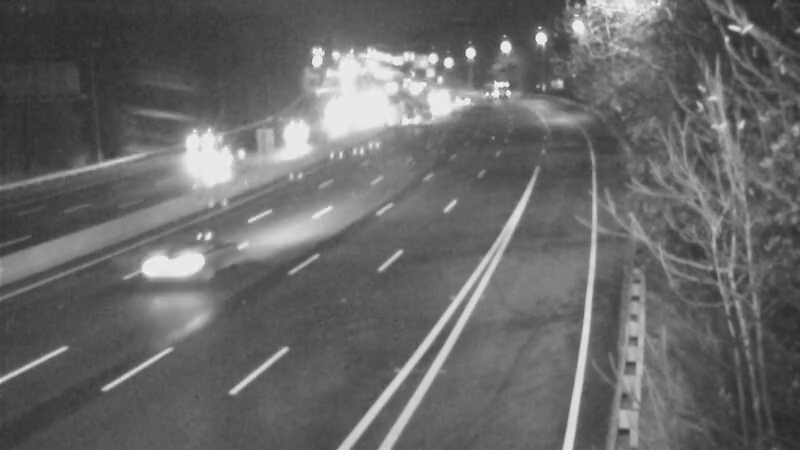vehicle: (133, 226, 213, 306), (186, 120, 266, 200), (467, 63, 517, 113), (409, 72, 459, 122), (433, 75, 483, 125), (410, 81, 460, 131), (380, 94, 430, 144), (169, 114, 219, 164), (269, 112, 319, 162)
